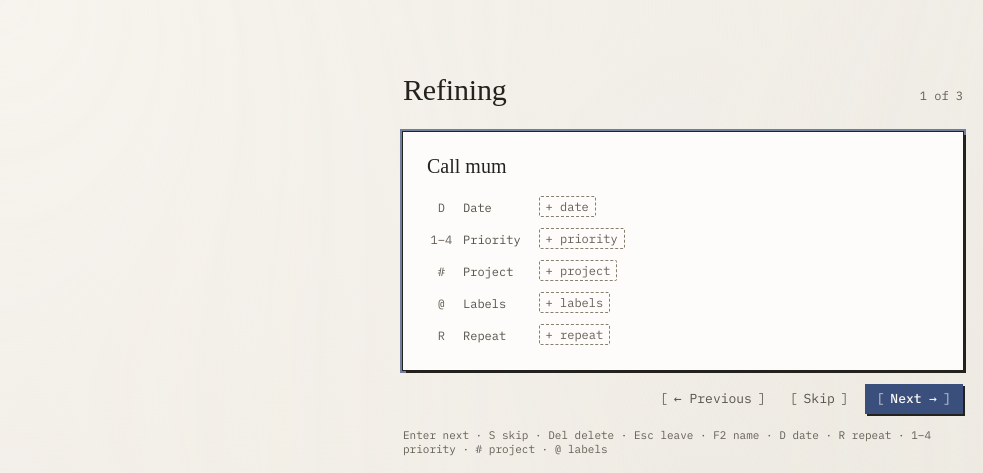
it: the refine walk › walks with the mouse: next, skip, back
Expected: the button "← Previous" is disabled, [652,384,774,414]
Click the button "Next →" at {"x": 914, "y": 399}, box [864,384,963,414]
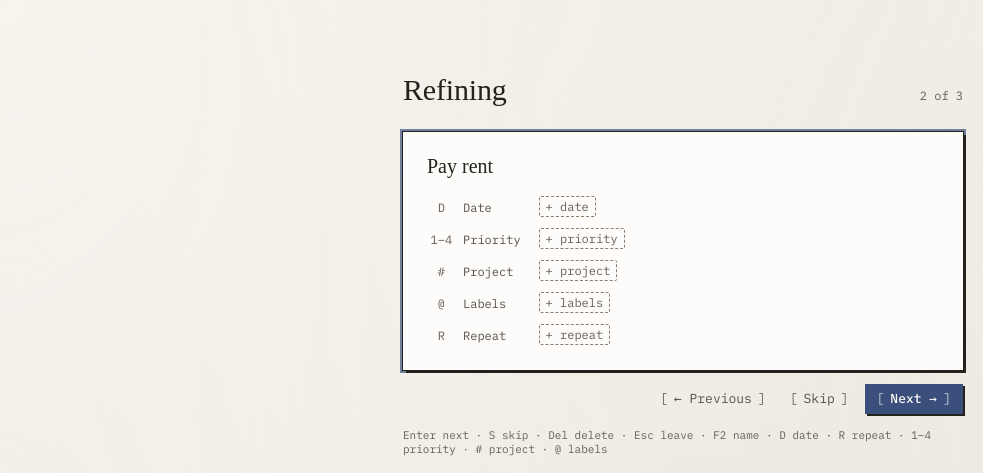
Expected: the text with class "refine-progress" shows "2", [920,86,963,106]
Click the button "Skip" at {"x": 819, "y": 399}, box [782,384,856,414]
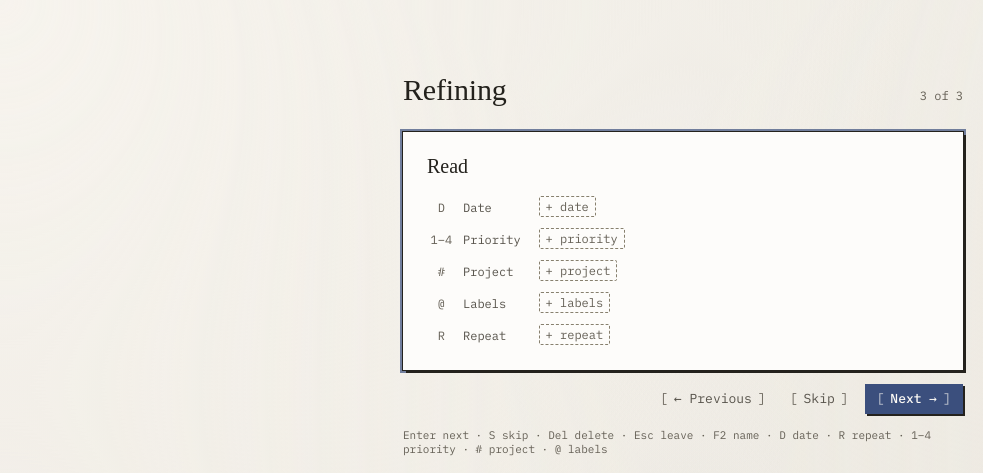
Expected: the text with class "refine-progress" shows "3", [920,86,963,106]
Click the button "← Previous" at {"x": 713, "y": 399}, box [652,384,774,414]
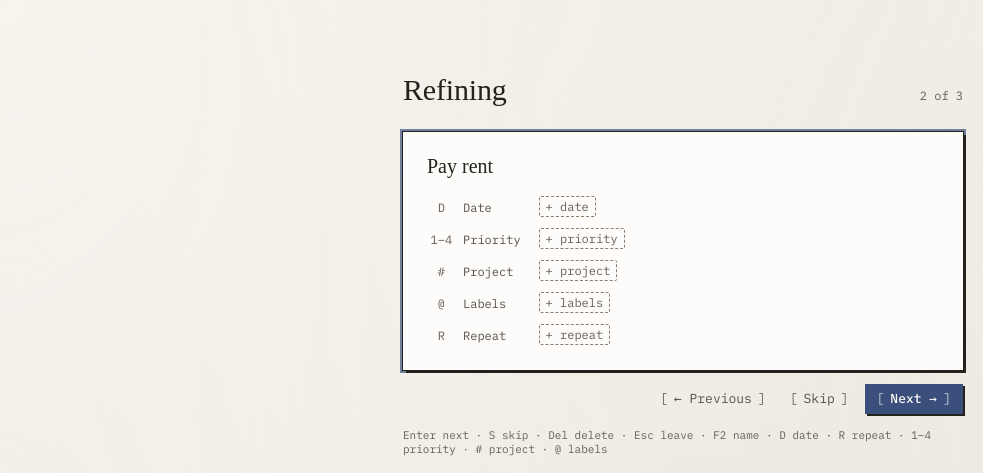
Expected: the text with class "refine-progress" shows "2", [920,86,963,106]
